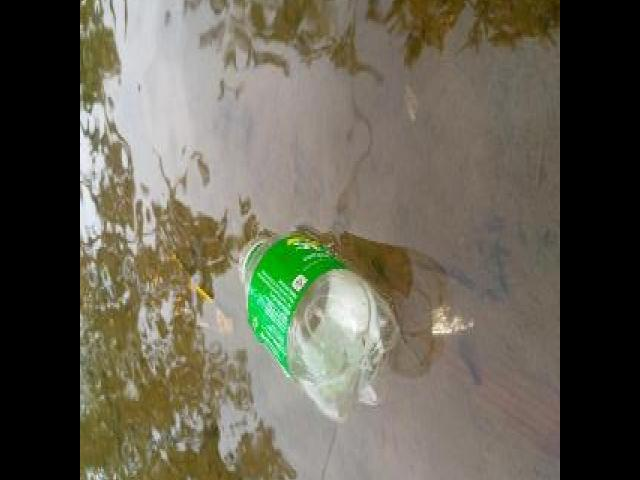Bottle: (230, 220, 408, 432)
